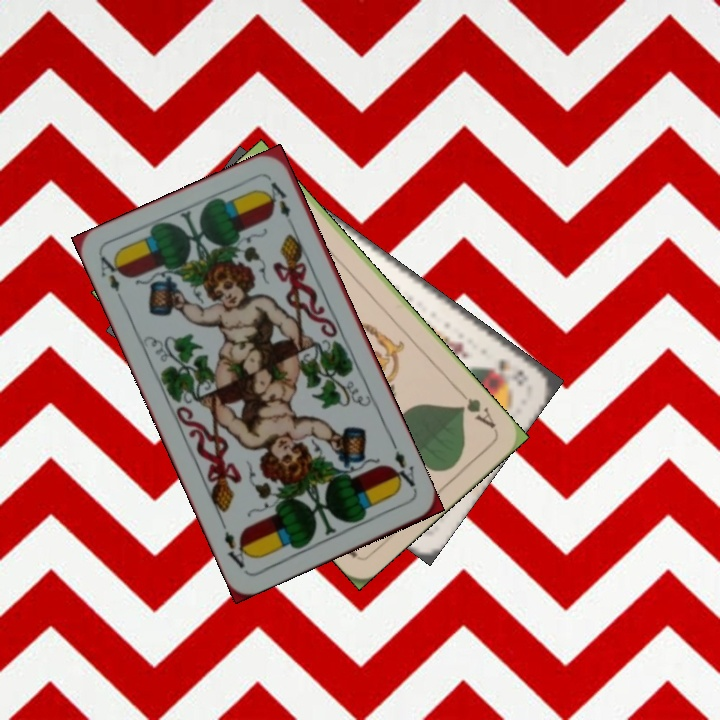EA: (95, 252, 128, 307), (386, 446, 418, 491)
GA: (454, 385, 499, 432)
SK: (493, 354, 532, 389)
